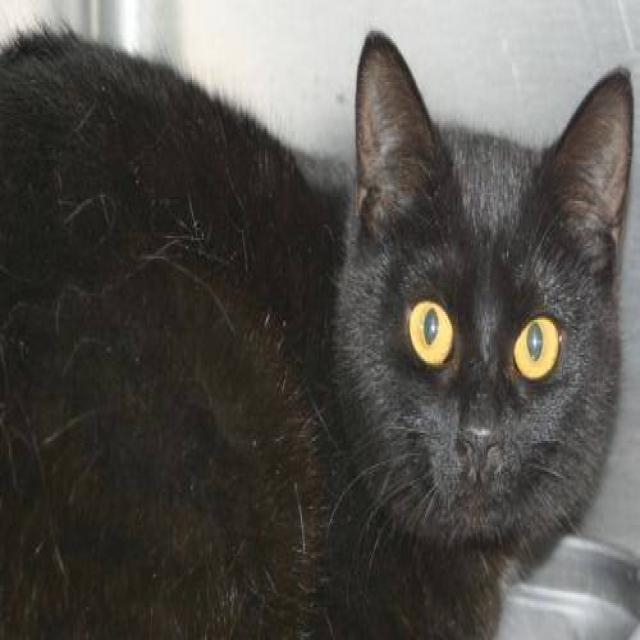cat: (0, 16, 635, 638)
